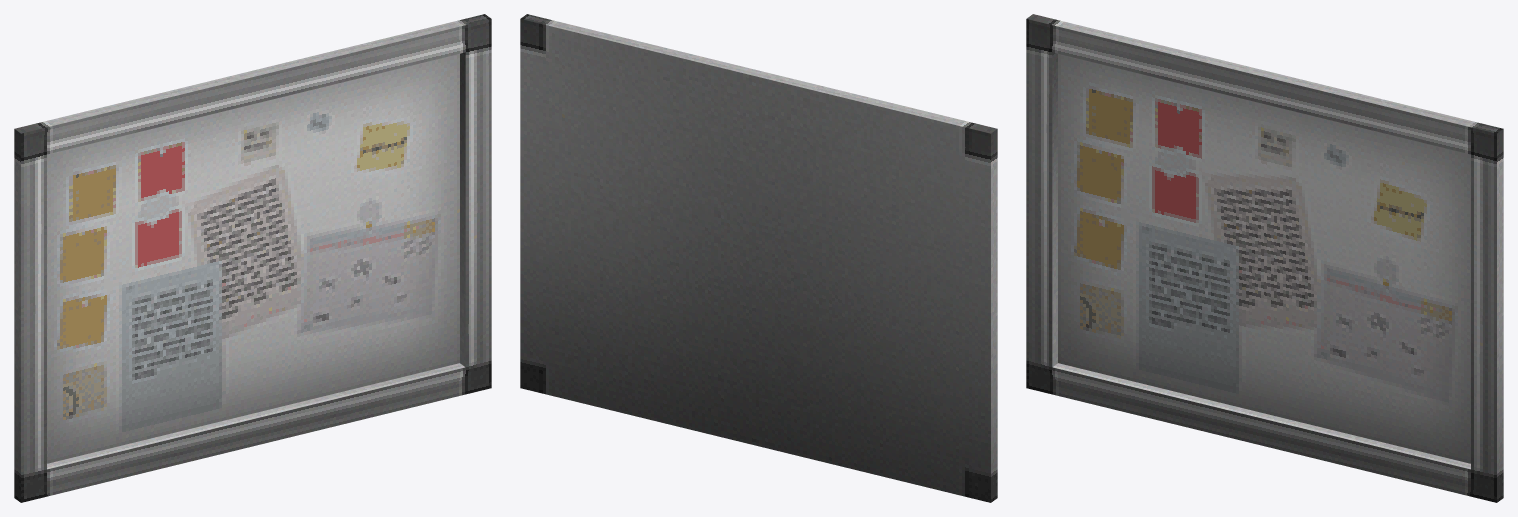
The model's file is notice-board.glb.
The picture shows the model from 3 angles, left to right: view 1: azimuth 30°, elevation 25°; view 2: azimuth 150°, elevation 25°; view 3: azimuth 330°, elevation 25°; orthographic projection.
Parts seen in each view (by area): view 1: notice-board-col; view 2: notice-board-col; view 3: notice-board-col.
Part boxes in pixels (x1,y1,x2,y2): notice-board-col: [14, 14, 491, 502]; notice-board-col: [520, 14, 997, 502]; notice-board-col: [1026, 14, 1503, 502].
Size of the model in its own units: 1.2 by 0.9 by 0.0295.
1 material, 1 textured.
